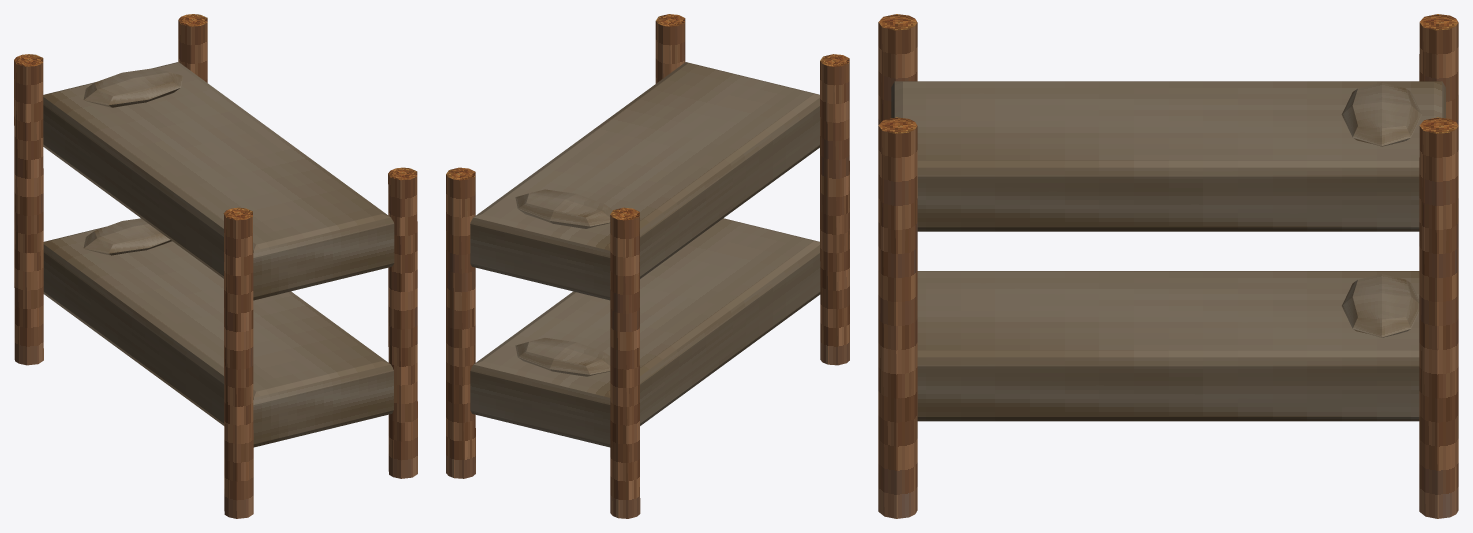
The model's file is Blanket.fbx.
3 renders of one model, left to right at view 1: azimuth 30°, elevation 25°; view 2: azimuth 150°, elevation 25°; view 3: azimuth 270°, elevation 25°, orthographic. The views are drawn at different scales.
Visible parts, largest first — view 1: Beds, Cylinder.006; view 2: Beds, Cylinder.006; view 3: Beds, Cylinder.006.
Part boxes in pixels (x1,y1,x2,y2): Beds: [43, 62, 394, 447]; Cylinder.006: [14, 14, 417, 518]; Beds: [470, 62, 820, 447]; Cylinder.006: [446, 14, 849, 518]; Beds: [891, 81, 1445, 421]; Cylinder.006: [878, 14, 1458, 518].
Size of the model in its own units: 244 by 365 by 498.
